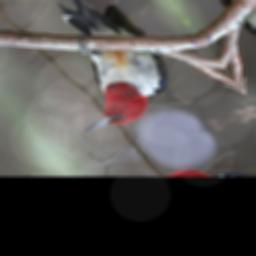Woodpecker: (0, 0, 198, 137)
